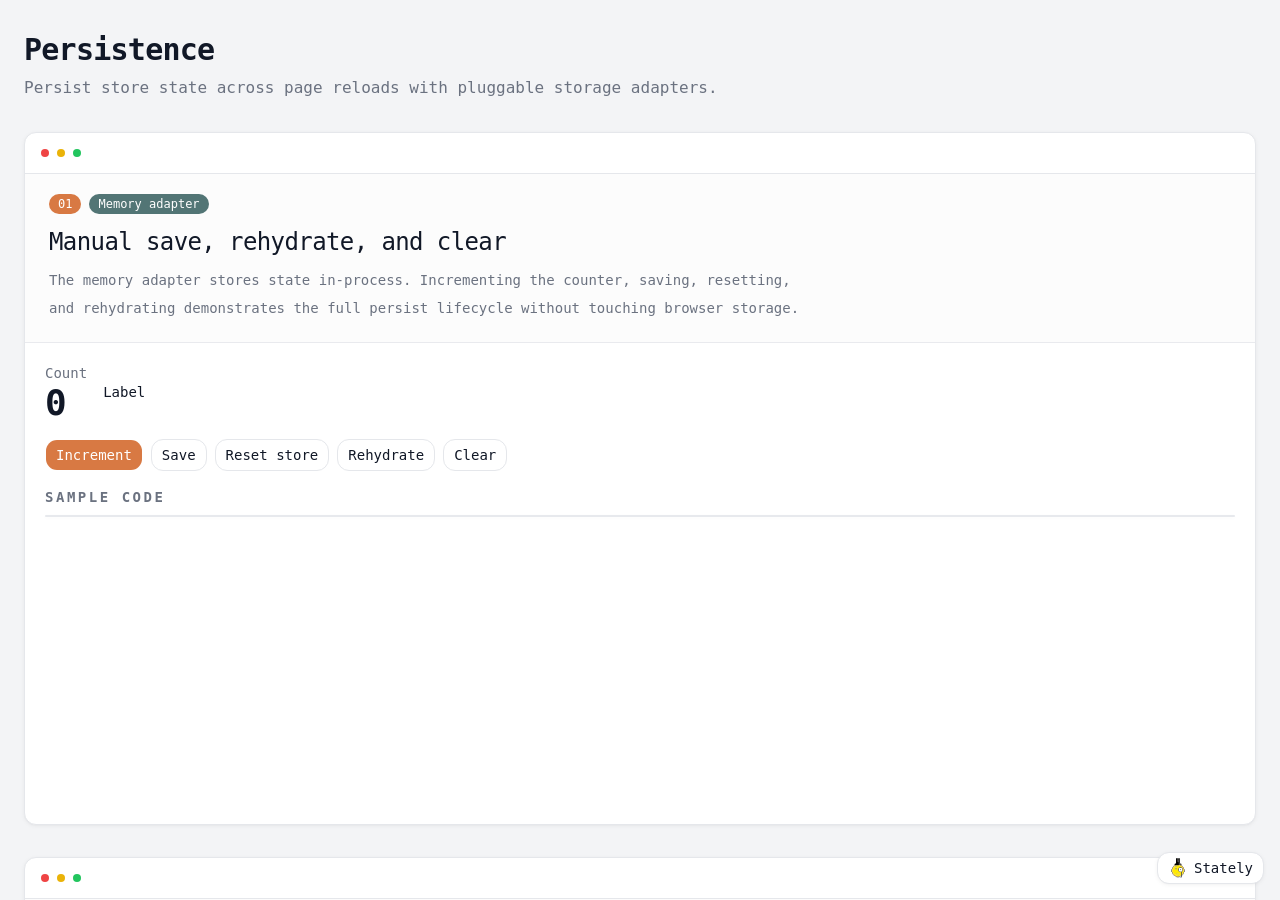
Test case: Persistence page › memory adapter: save and rehydrate restores count
The width and height of the screenshot is (1280, 900).
Expected: the text with test id "persist-basic-count" reads "0", [45, 382, 67, 423]
Step 1. Click the button "Increment" → (94, 455), box [45, 439, 143, 471]
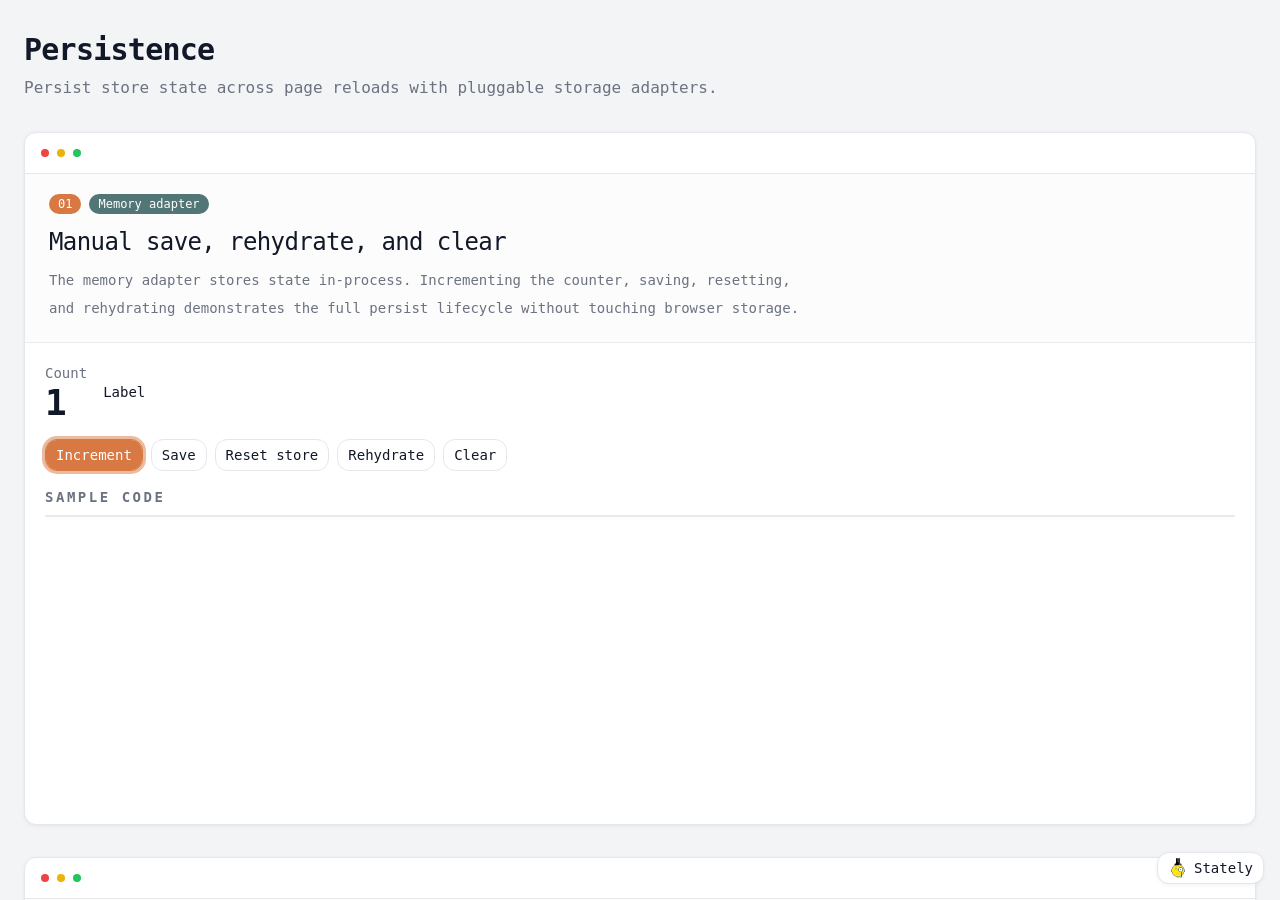
Now the text with test id "persist-basic-count" reads "1", box [45, 382, 67, 423]
# Save current state
Step 2. Click the button with test id "persist-basic-save" → (179, 455), box [151, 439, 207, 471]
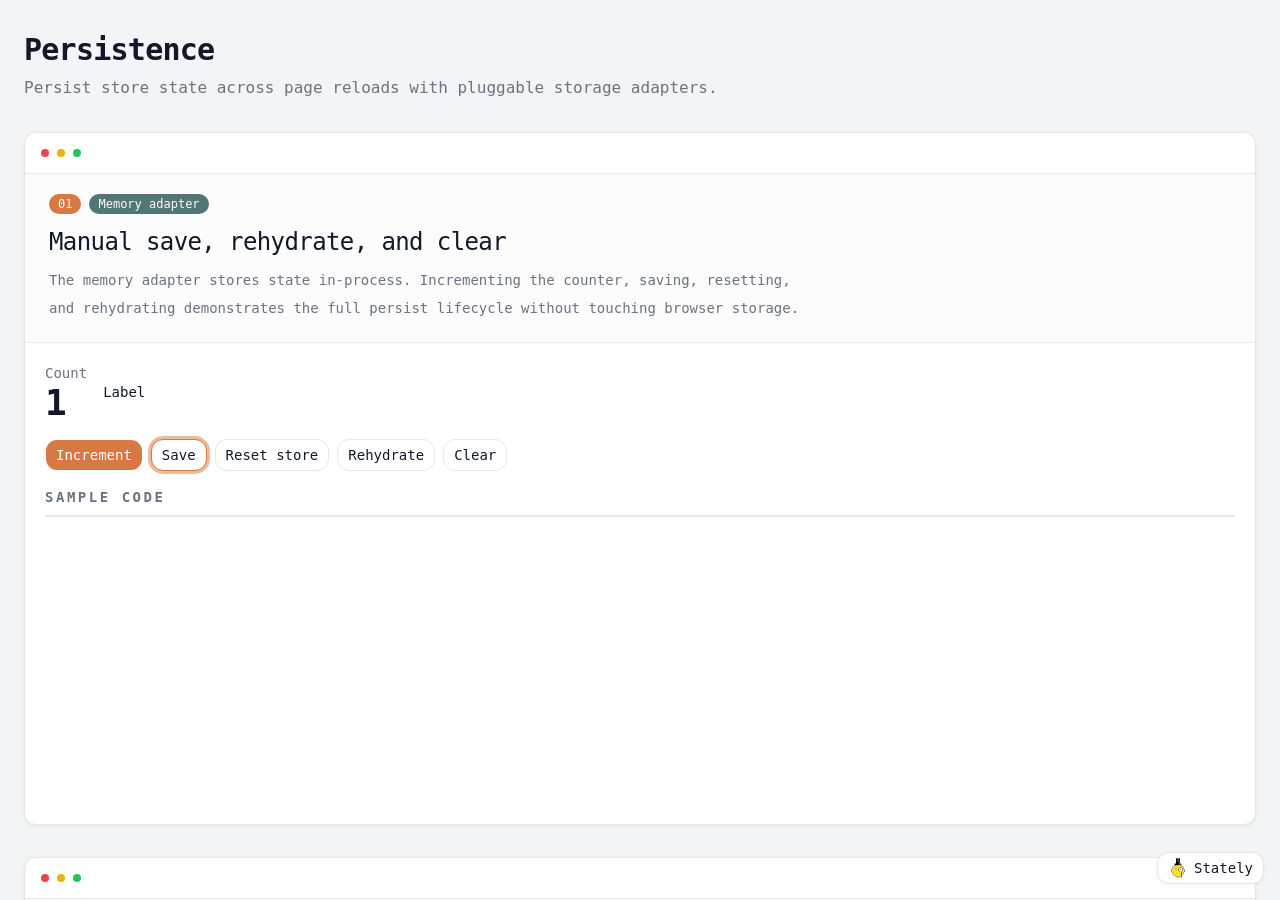
# Reset store back to zero
Step 3. Click the button with test id "persist-basic-reset" → (272, 455), box [215, 439, 329, 471]
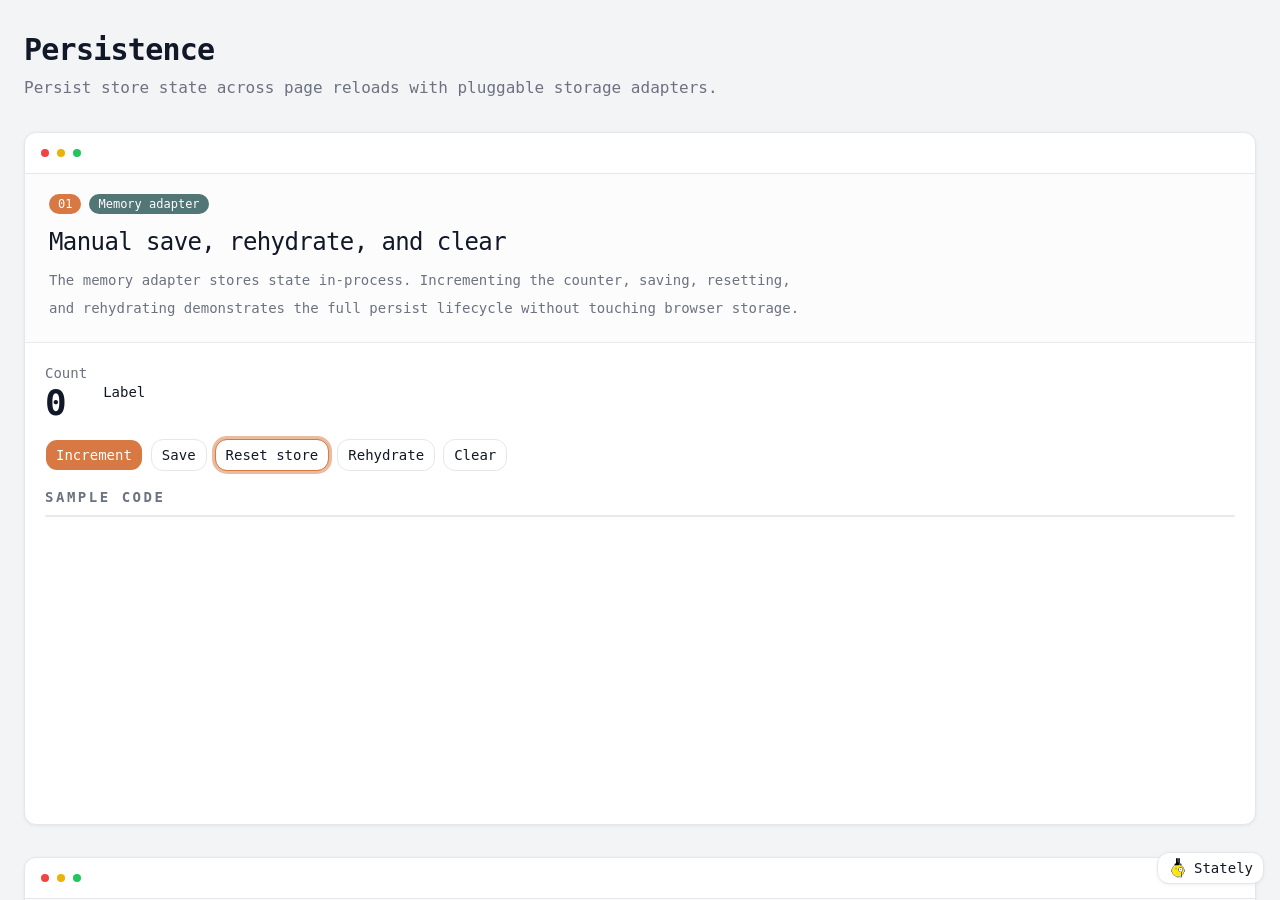
Now the text with test id "persist-basic-count" reads "0", box [45, 382, 67, 423]
# Rehydrate from adapter
Step 4. Click the button with test id "persist-basic-rehydrate" → (386, 455), box [337, 439, 435, 471]
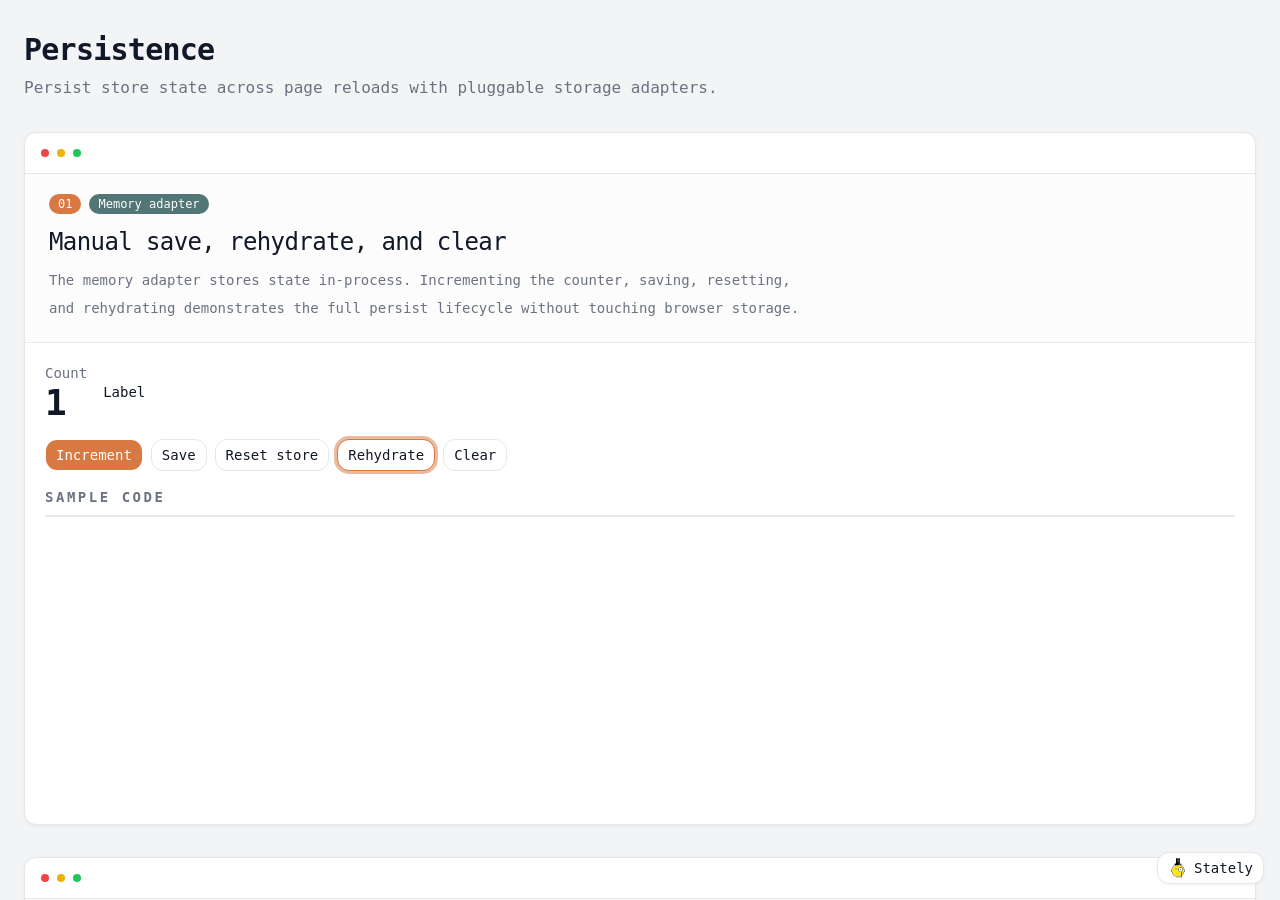
Now the text with test id "persist-basic-count" reads "1", box [45, 382, 67, 423]
